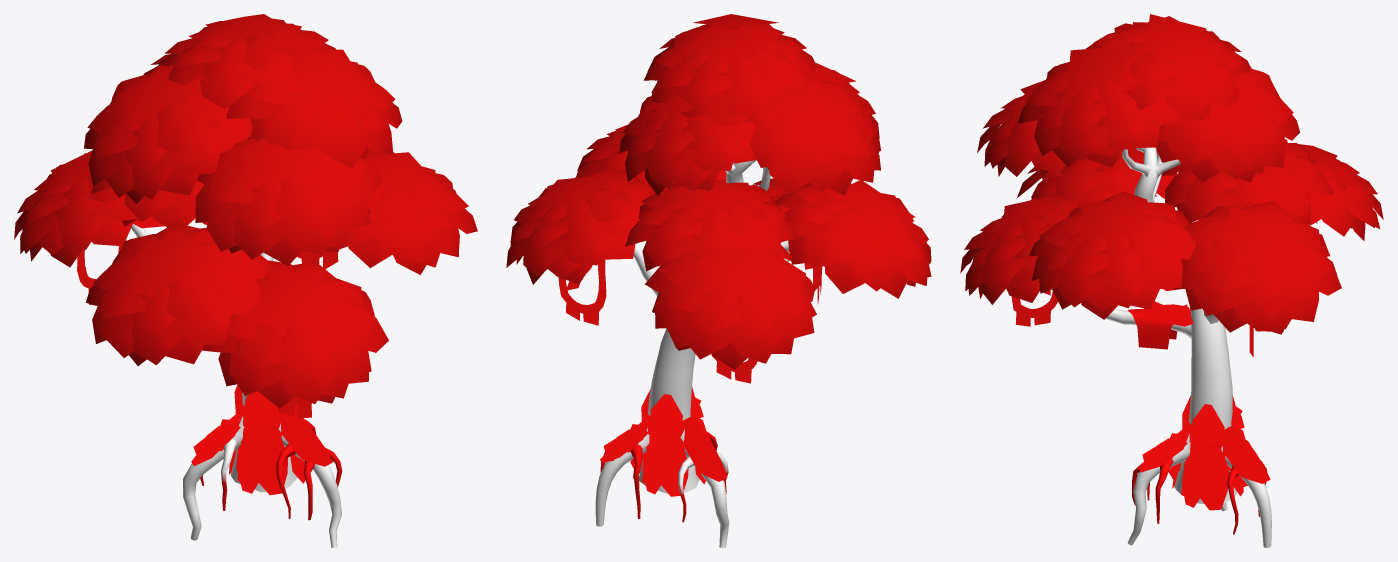
The model's file is SM_tree_02.FBX.
3 views of the same model, side by side, from view 1: azimuth 30°, elevation 25°; view 2: azimuth 150°, elevation 25°; view 3: azimuth 270°, elevation 25° (orthographic). The views are drawn at different scales.
Visible parts, largest first — view 1: SM_tree_02_LOD0; view 2: SM_tree_02_LOD0; view 3: SM_tree_02_LOD0.
Part boxes in pixels (x1,y1,x2,y2): SM_tree_02_LOD0: (14,14,477,547); SM_tree_02_LOD0: (506,14,931,547); SM_tree_02_LOD0: (960,14,1383,547).
Size of what is drawn, in the model's own units: 1060 by 1126 by 1450.
